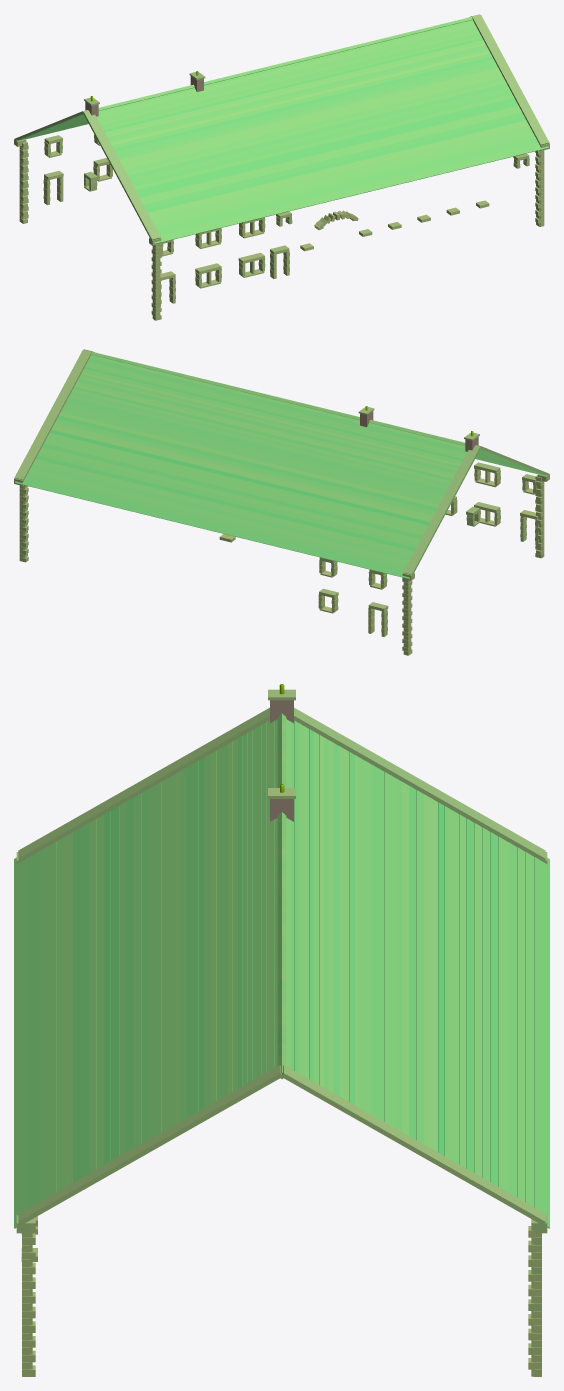
File: SM_Bld_141_Stone.glb
3 views of the same model, one above another, from view 1: azimuth 30°, elevation 25°; view 2: azimuth 150°, elevation 25°; view 3: azimuth 270°, elevation 25° (orthographic). The views are drawn at different scales.
Parts seen in each view (by area): view 1: SM_Bld_141_Stone; view 2: SM_Bld_141_Stone; view 3: SM_Bld_141_Stone.
Part boxes in pixels (x1,y1,x2,y2): SM_Bld_141_Stone: (14, 14, 549, 320); SM_Bld_141_Stone: (14, 349, 549, 655); SM_Bld_141_Stone: (14, 684, 549, 1376).
Size of the model in its own units: 32.6 by 13.61 by 19.88.
